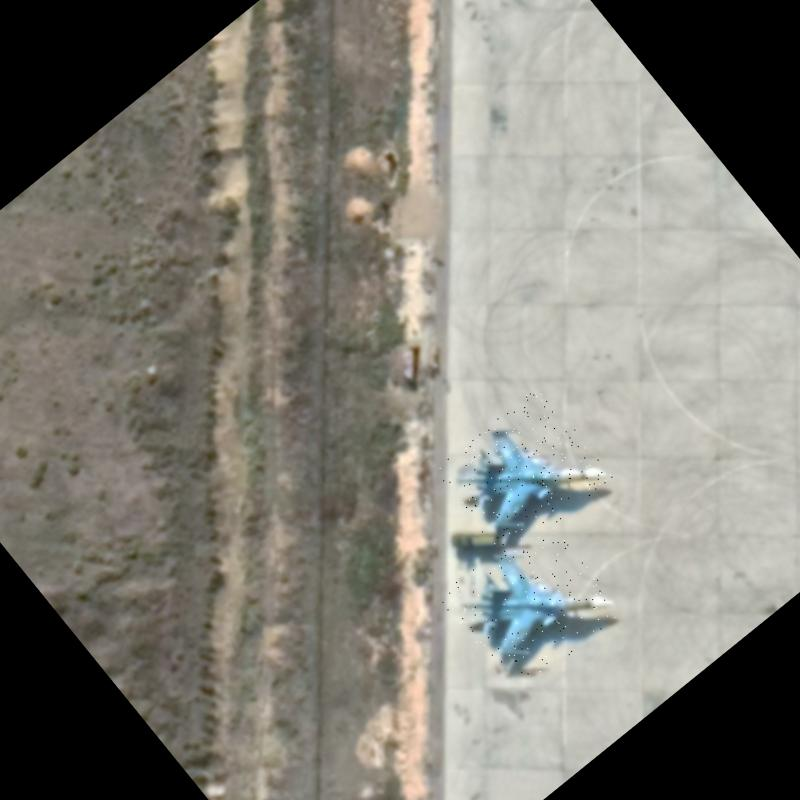A19: (437, 511, 624, 697), (431, 384, 614, 564)
